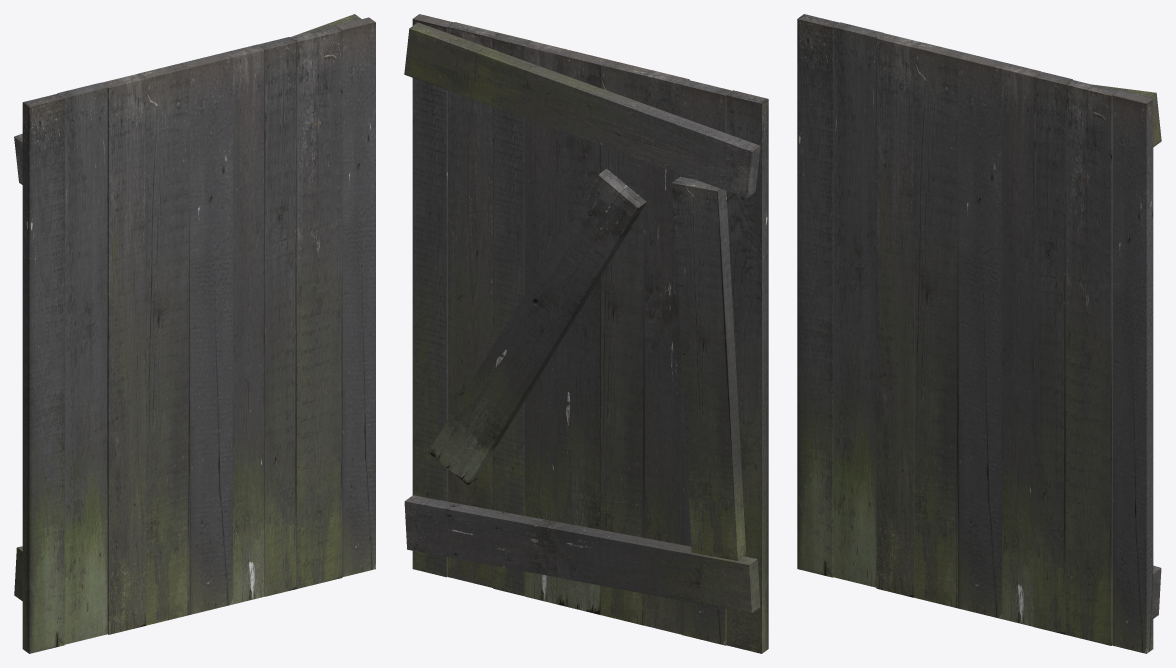
File: RottenSmallWoodenWall 2m.fbx
The picture shows the model from 3 angles, left to right: view 1: azimuth 30°, elevation 25°; view 2: azimuth 150°, elevation 25°; view 3: azimuth 330°, elevation 25°; orthographic projection.
Visible parts, largest first — view 1: RottenSmallWoodenWall_2m; view 2: RottenSmallWoodenWall_2m; view 3: RottenSmallWoodenWall_2m.
Part boxes in pixels (x1=…): RottenSmallWoodenWall_2m: x1=14, y1=14, x2=375, y2=653; RottenSmallWoodenWall_2m: x1=404, y1=14, x2=768, y2=653; RottenSmallWoodenWall_2m: x1=797, y1=14, x2=1161, y2=653.
Size of the model in its own units: 2 by 3.01 by 0.1628.
